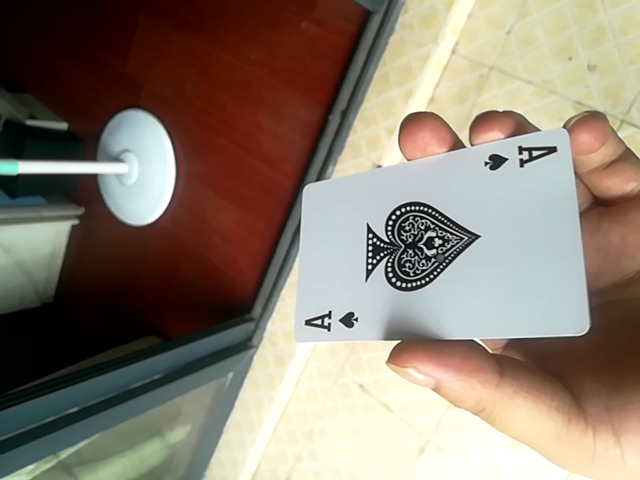ht a: (288, 129, 590, 346)
